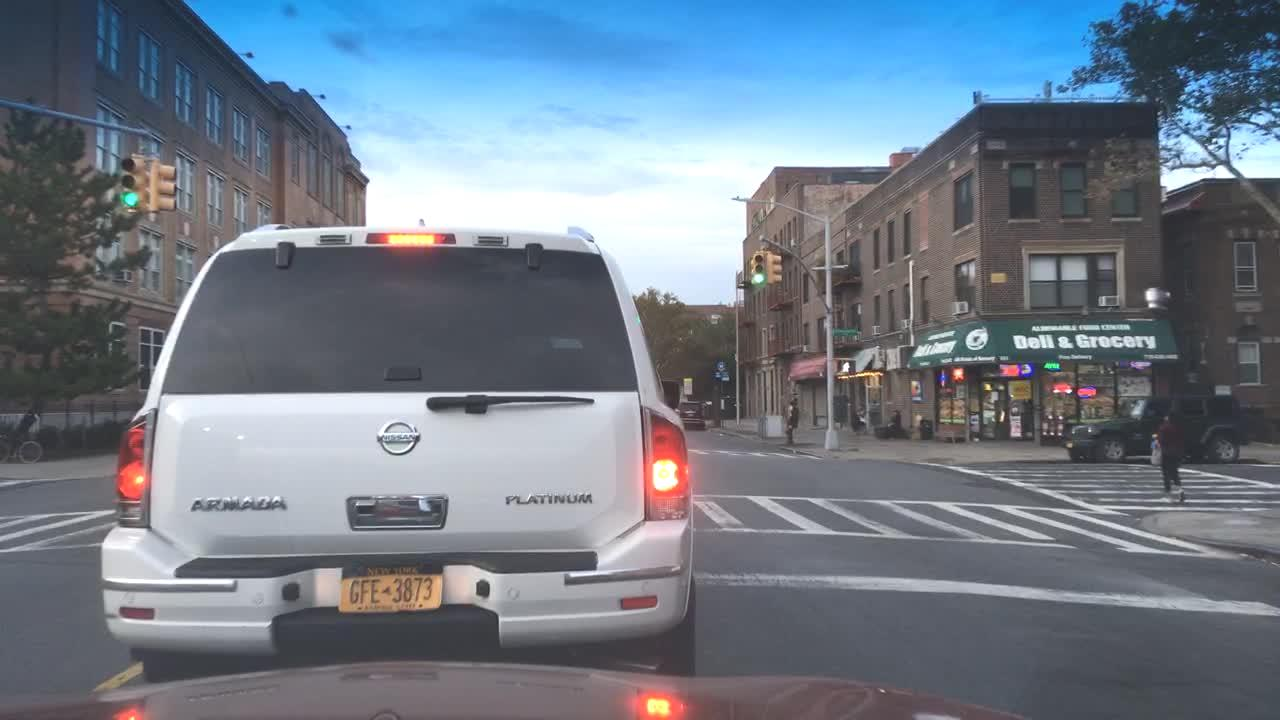Nissan: (361, 410, 431, 468)
